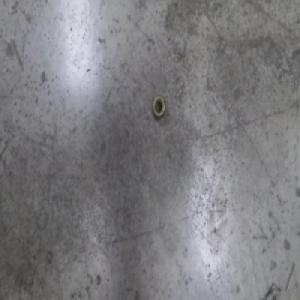Nut: (151, 93, 165, 120)
